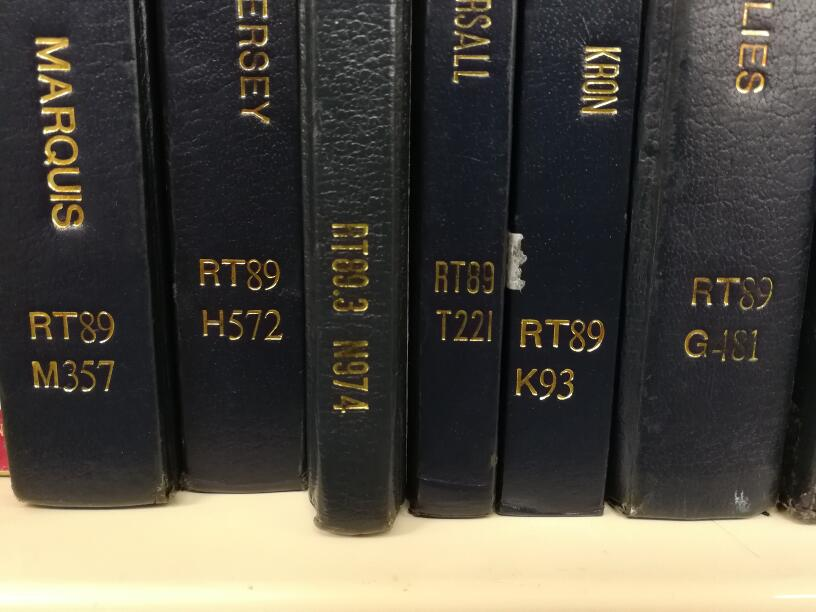booklabel: (326, 217, 375, 419), (680, 271, 777, 367), (511, 313, 608, 405), (193, 253, 288, 346), (26, 307, 120, 397), (428, 254, 498, 347)
